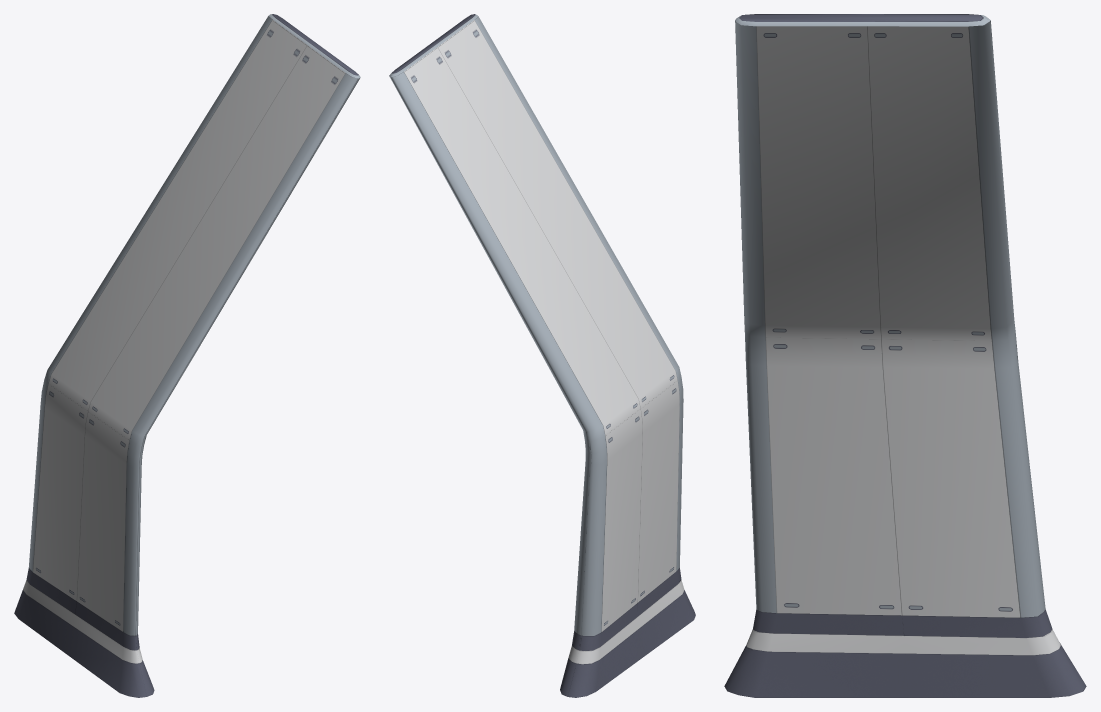
Rendered from Wing_05.FBX.
3 renders of one model, left to right at view 1: azimuth 30°, elevation 25°; view 2: azimuth 150°, elevation 25°; view 3: azimuth 270°, elevation 25°, orthographic. The views are drawn at different scales.
Visible parts, largest first — view 1: Wing_05; view 2: Wing_05; view 3: Wing_05.
Boxes of the visible parts, <box> form: Wing_05: <box>14,14,360,697</box>; Wing_05: <box>389,14,695,697</box>; Wing_05: <box>724,14,1086,697</box>.
Bounding box in the file's own units: 4.4 × 10.04 × 4.
